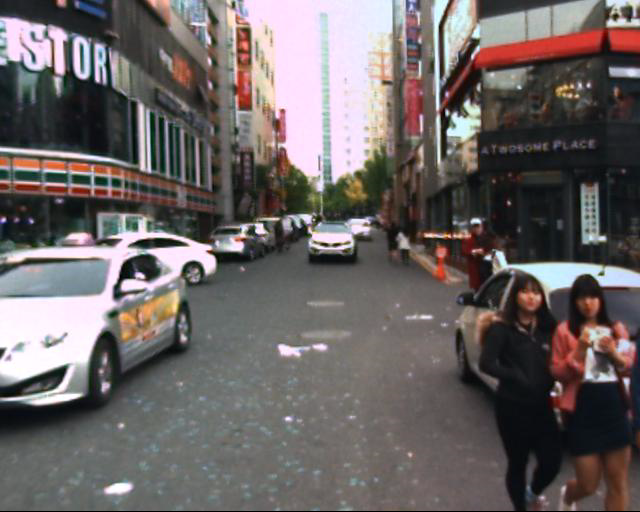person: (487, 267, 577, 506), (548, 263, 628, 504), (458, 201, 517, 333), (394, 212, 418, 276), (381, 215, 401, 275)
